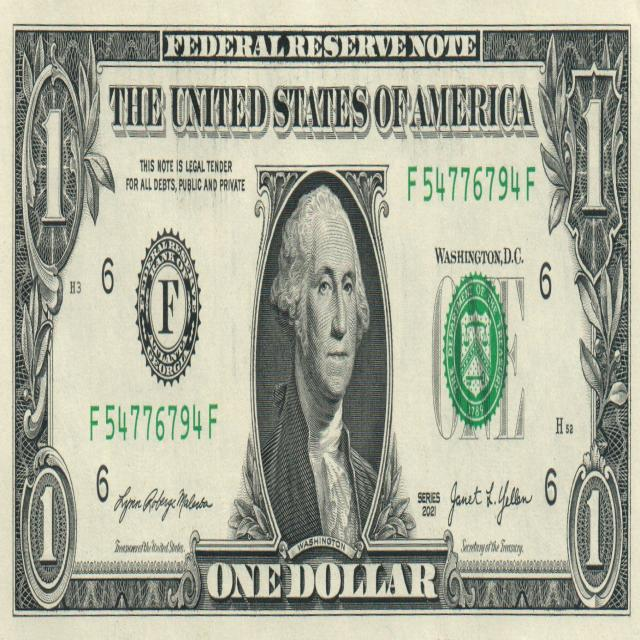SerialNumber: (408, 166, 535, 202), (91, 405, 202, 441)
